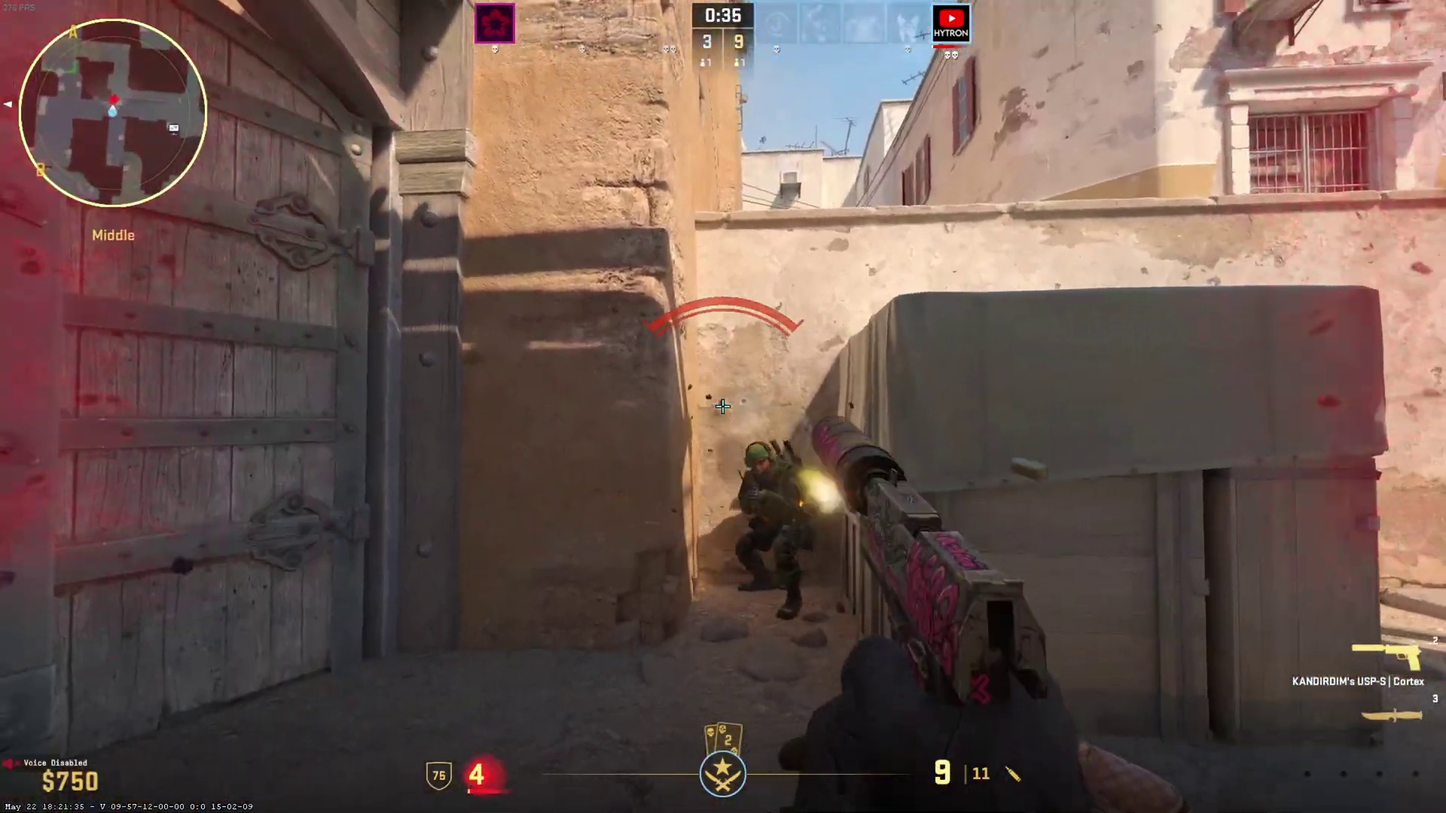CT: (737, 443, 817, 618)
